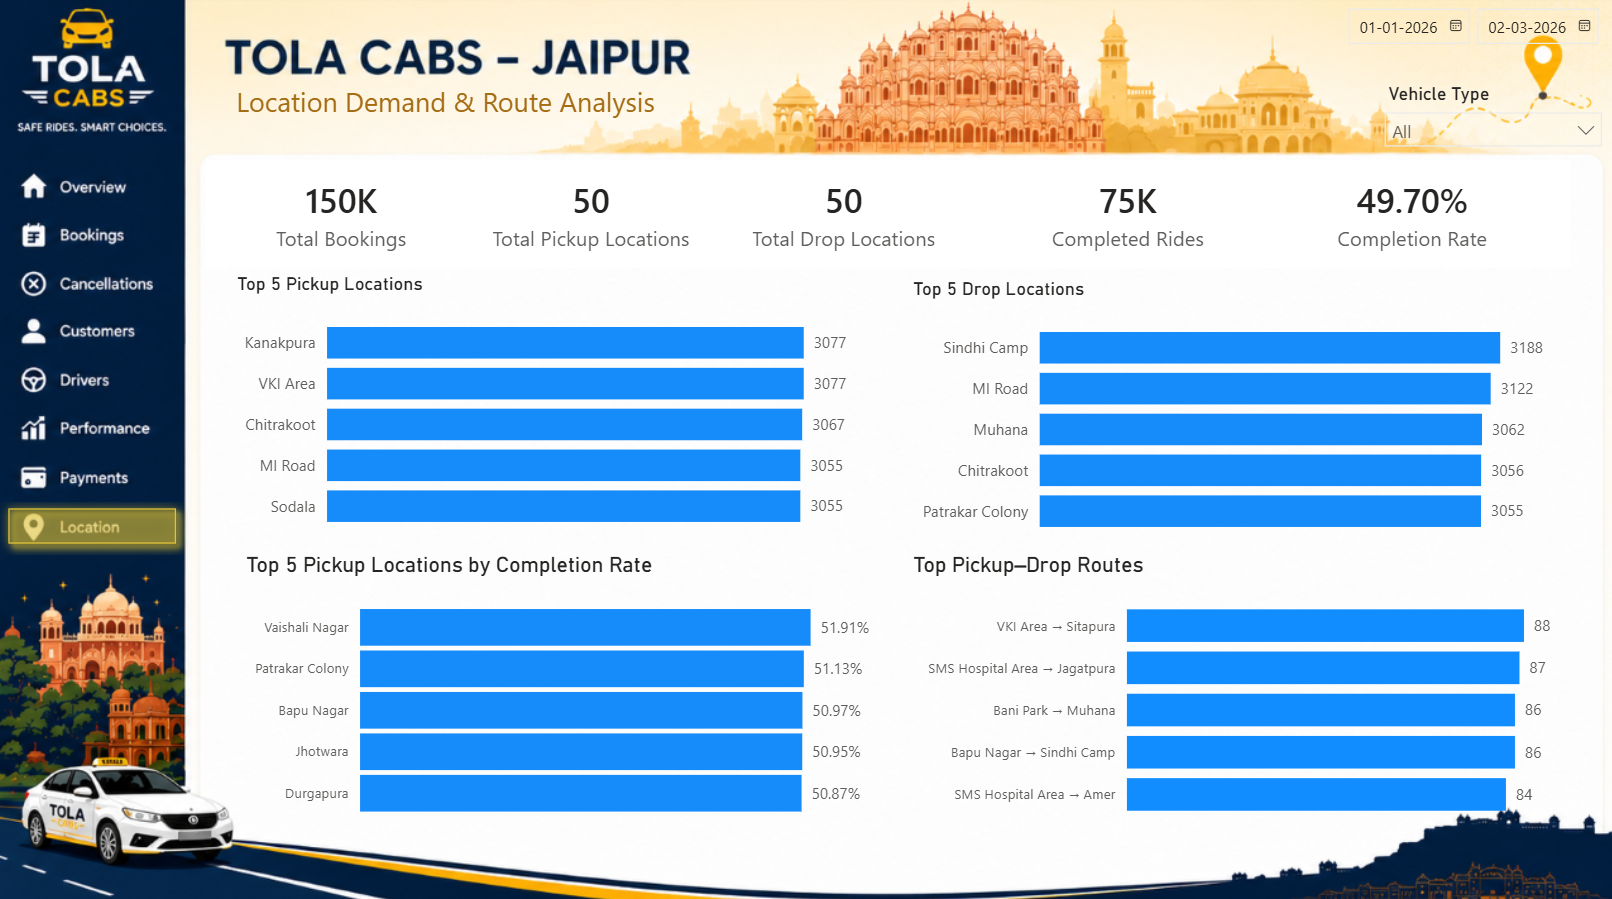

What the dashboard file says about the page in this screenshot:
{"tool":"powerbi","page":{"name":"08_Location","canvas":[1280,720],"ordinal":7},"visuals":[{"type":"shape","box":[0,396.1,150.6,45.9],"z":0},{"type":"actionButton","box":[1.2,365.9,151,39.5],"z":1000},{"type":"actionButton","box":[1.2,326.4,149.8,39.5],"z":2000},{"type":"actionButton","box":[0,286.9,149.8,39.5],"z":3000},{"type":"actionButton","box":[1.2,247.4,149.8,39.5],"z":4000},{"type":"actionButton","box":[2.3,126.6,149.8,39.5],"z":5000},{"type":"actionButton","box":[0,170.7,149.8,39.5],"z":6000},{"type":"actionButton","box":[1.2,210.2,149.8,39.5],"z":7000},{"type":"slicer","fields":{"Values":["tola bookings.Vehicle_Type"]},"box":[1088,64,192,64],"z":8000},{"type":"slicer","fields":{"Values":["Calendar.Date"]},"box":[1056,0,219.5,69.7],"z":9000},{"type":"cardVisual","fields":{"Data":["_Measures.Total Bookings"]},"box":[160,125,225,95],"z":10000},{"type":"cardVisual","fields":{"Data":["_Measures.Total Pickup Locations"]},"box":[360,125,220,95],"z":11000},{"type":"cardVisual","fields":{"Data":["_Measures.Total Drop Locations"]},"box":[550,125,240,95],"z":12000},{"type":"cardVisual","fields":{"Data":["_Measures.Completed Rides"]},"box":[770,125,250,95],"z":13000},{"type":"cardVisual","fields":{"Data":["_Measures.Completion Rate"]},"box":[990,125,260,95],"z":14000},{"type":"clusteredBarChart","title":"Top 5 Pickup Locations","fields":{"Category":["tola bookings.Pickup_Location"],"Y":["_Measures.Total Bookings"]},"box":[185,220,510,215],"z":15000},{"type":"clusteredBarChart","title":"Top 5 Drop Locations","fields":{"Category":["tola bookings.Drop_Location"],"Y":["_Measures.Total Bookings"]},"box":[720,224,510,215],"z":16000},{"type":"clusteredBarChart","title":"Top 5 Pickup Locations by Completion Rate","fields":{"Category":["tola bookings.Pickup_Location"],"Y":["_Measures.Completion Rate"]},"box":[192,440,512,224],"z":17000},{"type":"barChart","title":"Top Pickup–Drop Routes","fields":{"Category":["tola bookings.Pickup Drop Route"],"Y":["_Measures.Total Bookings"]},"box":[720,440,536,224],"z":18000},{"type":"textbox","box":[184,64,488,48],"z":18001}]}

Visuals, with their boxes on the page's 1280x720 design canvas (x1, y1, x2, y2). These are canvas units, not pixel positions in the 1612x899 screenshot, which may show the page scaled, cropped or inside an application window:
shape: bbox=(0, 396, 151, 442)
actionButton: bbox=(1, 366, 152, 405)
actionButton: bbox=(1, 326, 151, 366)
actionButton: bbox=(0, 287, 150, 326)
actionButton: bbox=(1, 247, 151, 287)
actionButton: bbox=(2, 127, 152, 166)
actionButton: bbox=(0, 171, 150, 210)
actionButton: bbox=(1, 210, 151, 250)
slicer - tola bookings.Vehicle_Type: bbox=(1088, 64, 1280, 128)
slicer - Calendar.Date: bbox=(1056, 0, 1276, 70)
cardVisual - _Measures.Total Bookings: bbox=(160, 125, 385, 220)
cardVisual - _Measures.Total Pickup Locations: bbox=(360, 125, 580, 220)
cardVisual - _Measures.Total Drop Locations: bbox=(550, 125, 790, 220)
cardVisual - _Measures.Completed Rides: bbox=(770, 125, 1020, 220)
cardVisual - _Measures.Completion Rate: bbox=(990, 125, 1250, 220)
"Top 5 Pickup Locations" clusteredBarChart: bbox=(185, 220, 695, 435)
"Top 5 Drop Locations" clusteredBarChart: bbox=(720, 224, 1230, 439)
"Top 5 Pickup Locations by Completion Rate" clusteredBarChart: bbox=(192, 440, 704, 664)
"Top Pickup–Drop Routes" barChart: bbox=(720, 440, 1256, 664)
textbox: bbox=(184, 64, 672, 112)
